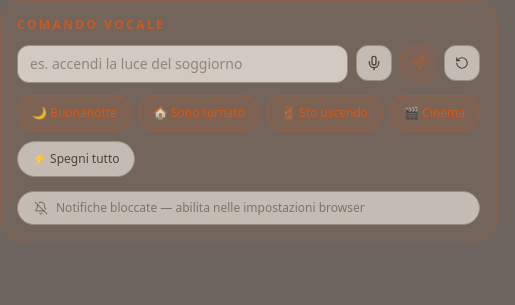
Test: NLCommandBar — flusso voce › 4 — mostra voiceError e chiude lo stream se MediaRecorder lancia eccezione
Click the button named "Avvia registrazione vocale" at (374, 63), box [356,45,392,81]
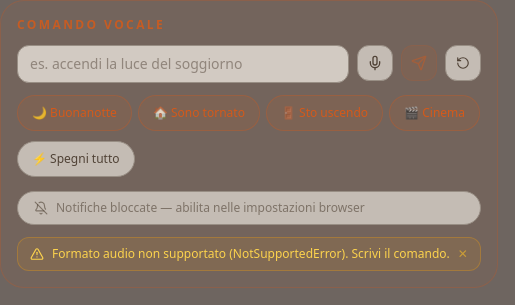
Result: the text "Formato audio non supportato" is shown at [52,245,450,262]
